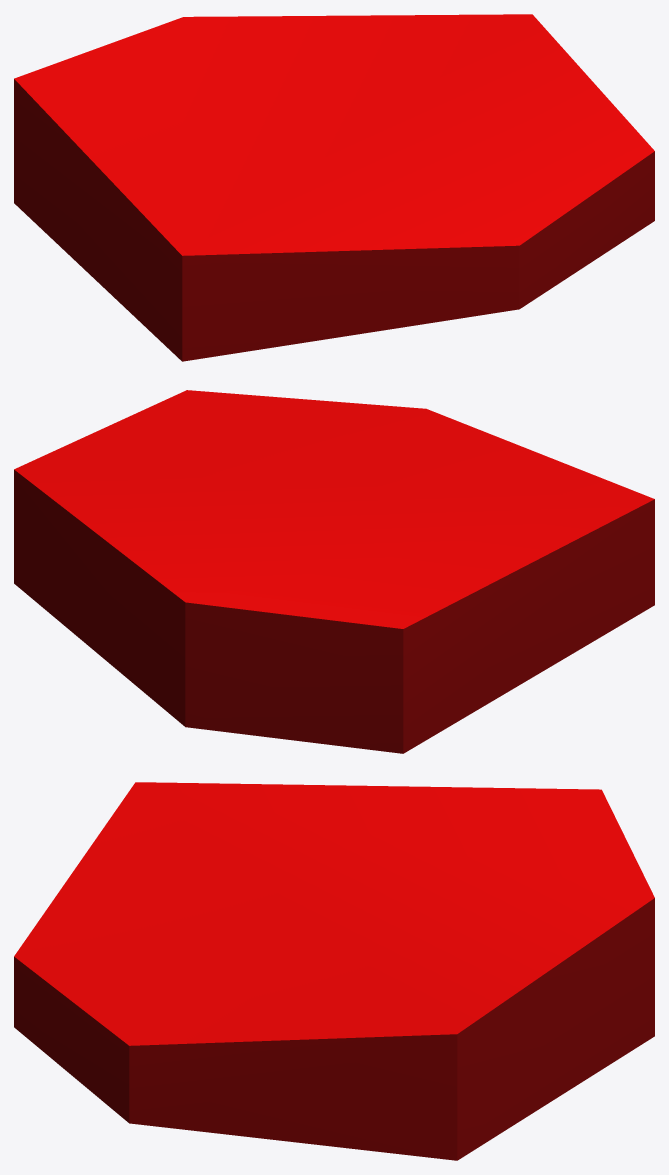
The model's file is geology-landforms-icedrift_v5.fbx.
3 views of the same model, one above another, from view 1: azimuth 30°, elevation 25°; view 2: azimuth 150°, elevation 25°; view 3: azimuth 270°, elevation 25° (orthographic). The views are drawn at different scales.
Parts seen in each view (by area): view 1: IceDrift_v5; view 2: IceDrift_v5; view 3: IceDrift_v5.
Boxes of the visible parts, <box> form: IceDrift_v5: <box>14,14,654,361</box>; IceDrift_v5: <box>14,390,654,753</box>; IceDrift_v5: <box>14,782,654,1160</box>.
Size of the model in its own units: 1.9 by 0.4729 by 1.92.
